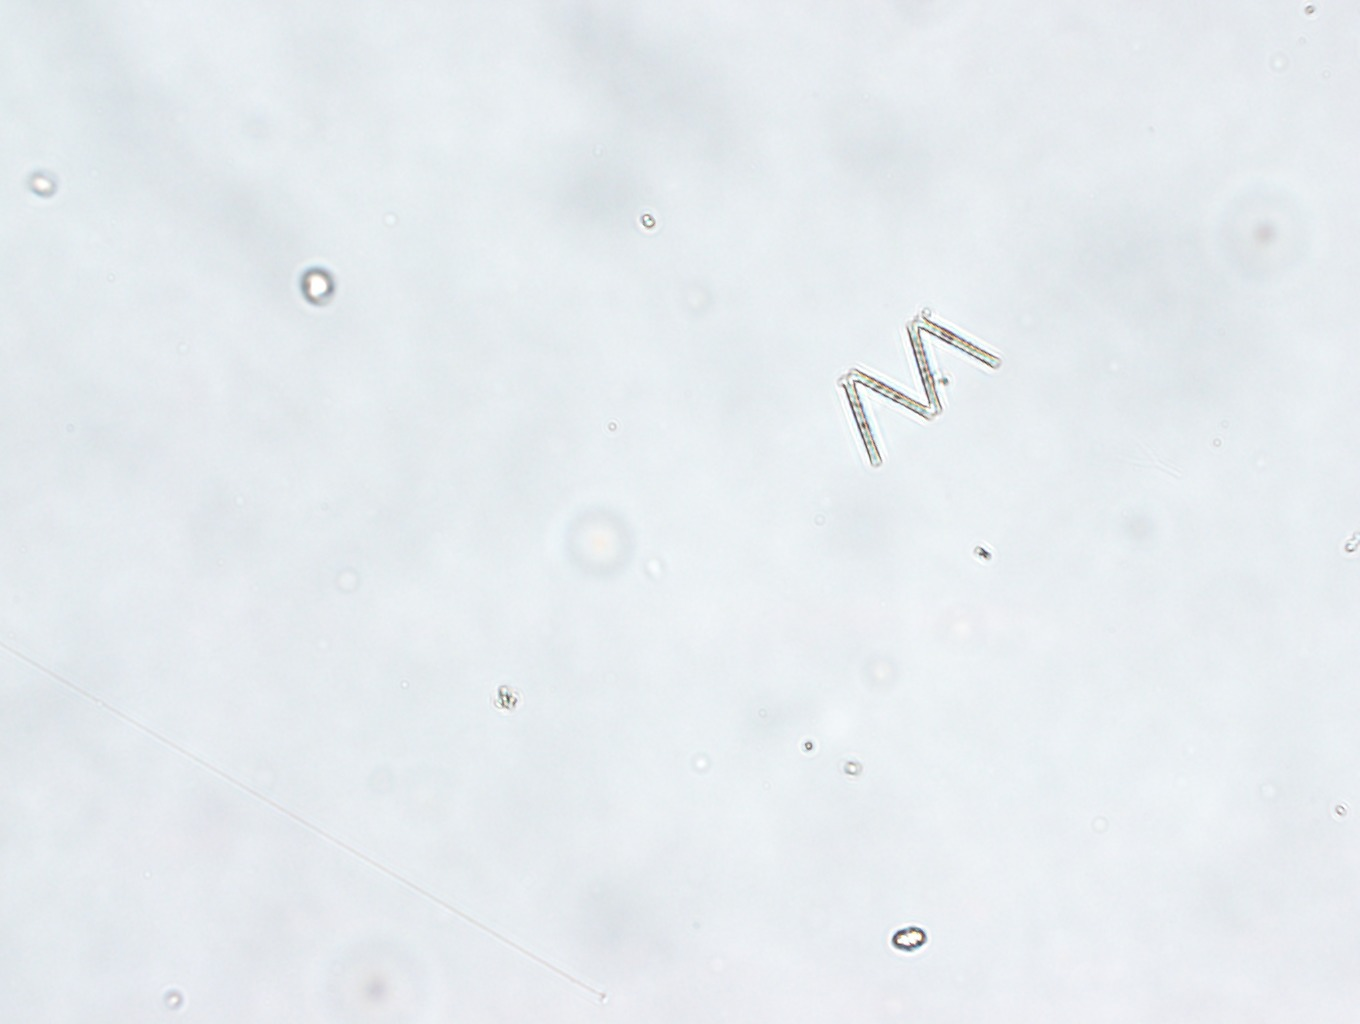thalassionema nitzschioides: (835, 310, 1001, 467)
